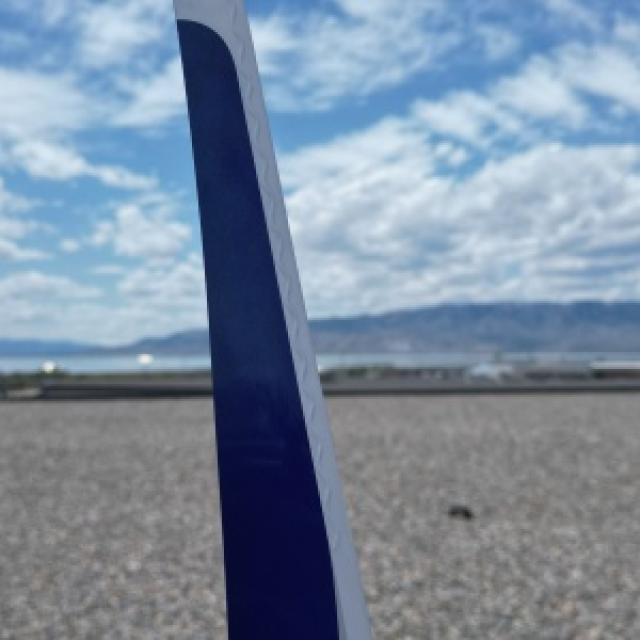healthy: (173, 0, 369, 638)
